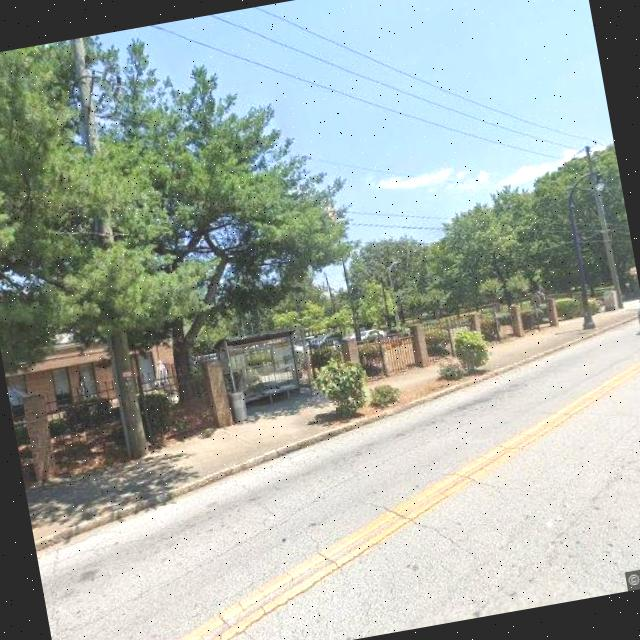seating: (260, 382, 300, 406)
shelter: (212, 326, 312, 414)
trash_can: (228, 390, 248, 422), (298, 378, 314, 398)
